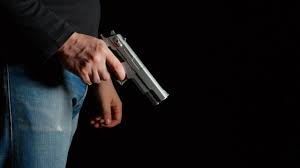gun: (92, 28, 174, 113)
